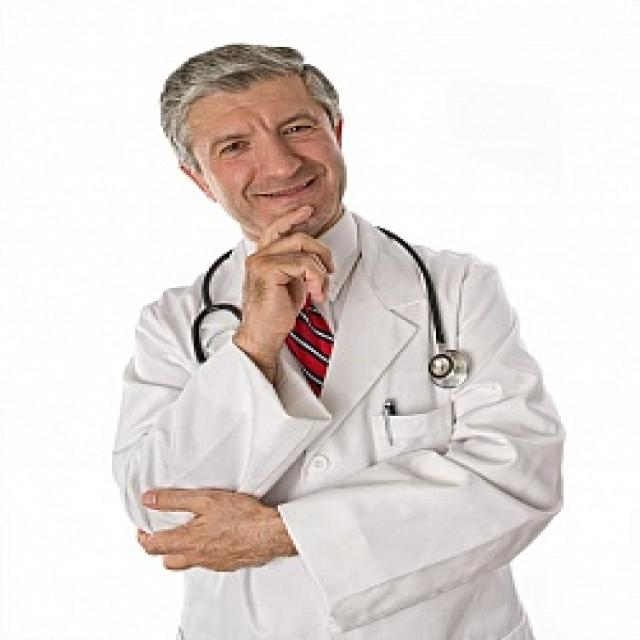Eyes: (208, 119, 322, 162)
